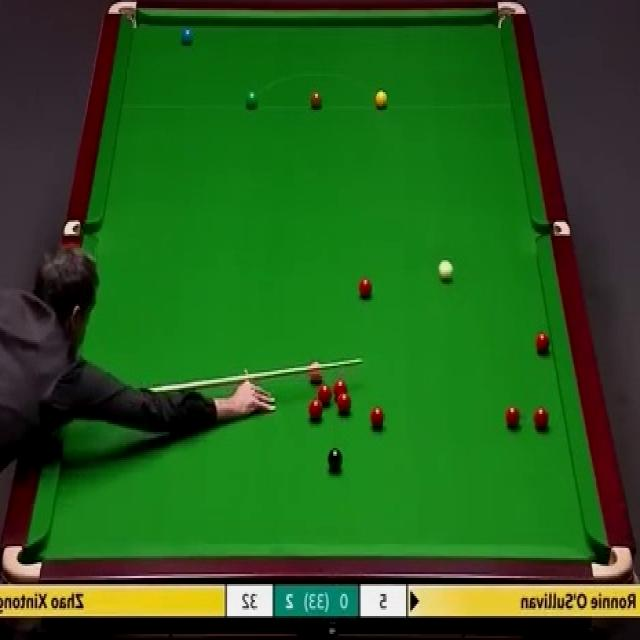black-ball: (328, 449, 342, 472)
blue-ball: (178, 27, 192, 44)
brown-ball: (309, 90, 322, 110)
green-ball: (245, 90, 259, 111)
pink-ball: (308, 359, 324, 384)
red-ball: (369, 405, 385, 432), (533, 405, 550, 430), (534, 330, 550, 354), (308, 396, 323, 421), (314, 380, 330, 402), (358, 278, 373, 300), (333, 378, 347, 401), (337, 393, 351, 414), (507, 406, 520, 428)
white-ball: (438, 260, 452, 282)
yellow-ball: (374, 89, 389, 110)
